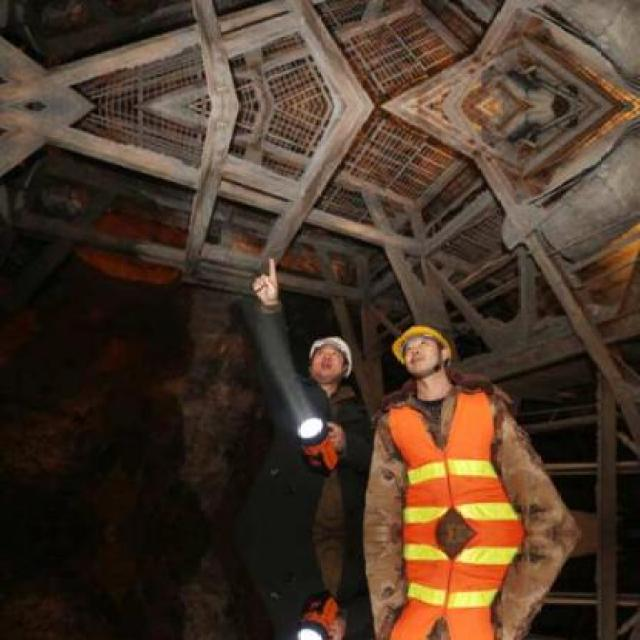helmet: (390, 321, 453, 375), (306, 332, 356, 388)
